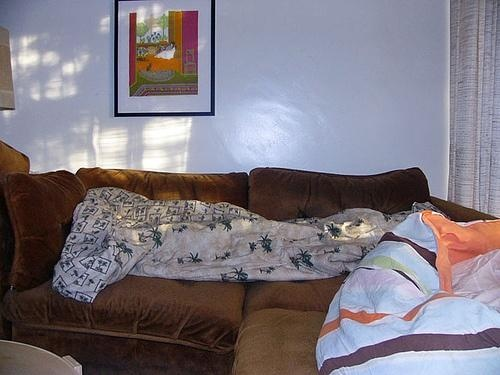sofa: (5, 170, 500, 374)
